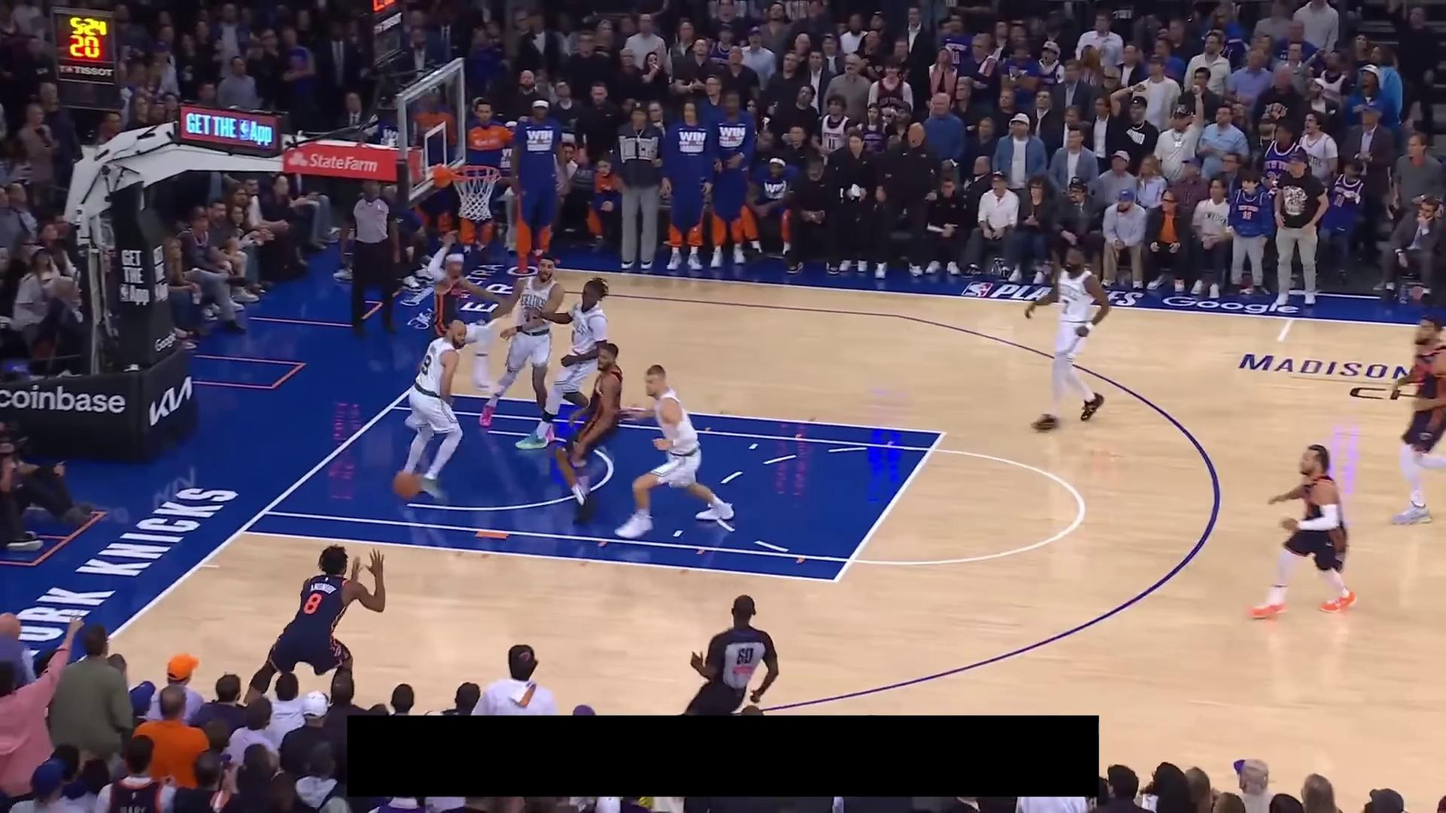ball: (388, 467, 425, 501)
number: (304, 591, 321, 616), (421, 353, 434, 375), (1061, 299, 1070, 316)
player: (243, 545, 390, 709), (613, 362, 736, 538), (1245, 441, 1360, 623), (508, 271, 618, 454), (475, 250, 571, 443), (1022, 245, 1115, 437), (551, 340, 630, 524), (397, 315, 473, 501), (425, 229, 511, 392), (1388, 311, 1446, 531)
referee: (680, 595, 783, 714), (337, 176, 401, 336)
rim: (454, 163, 501, 181)
